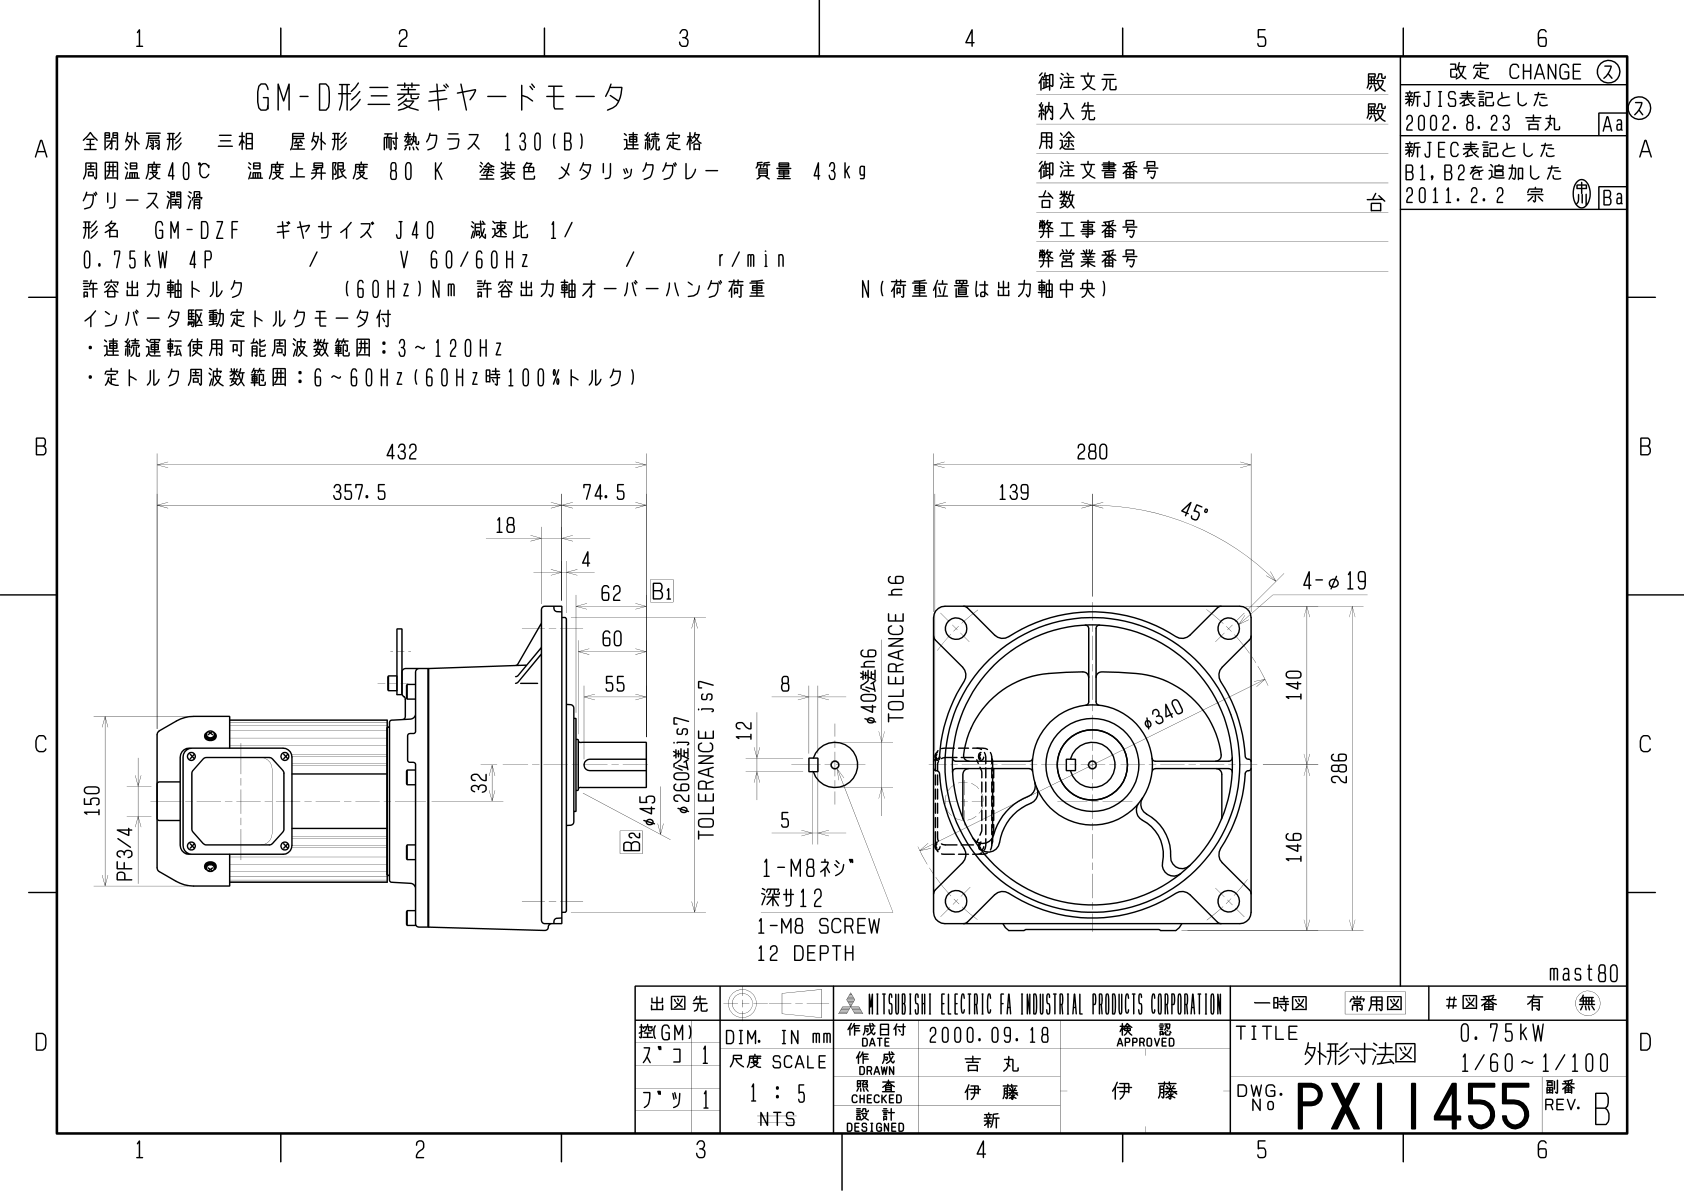GM_D_インバータ屋外_三相_フランジ: (75, 403, 1389, 969)
